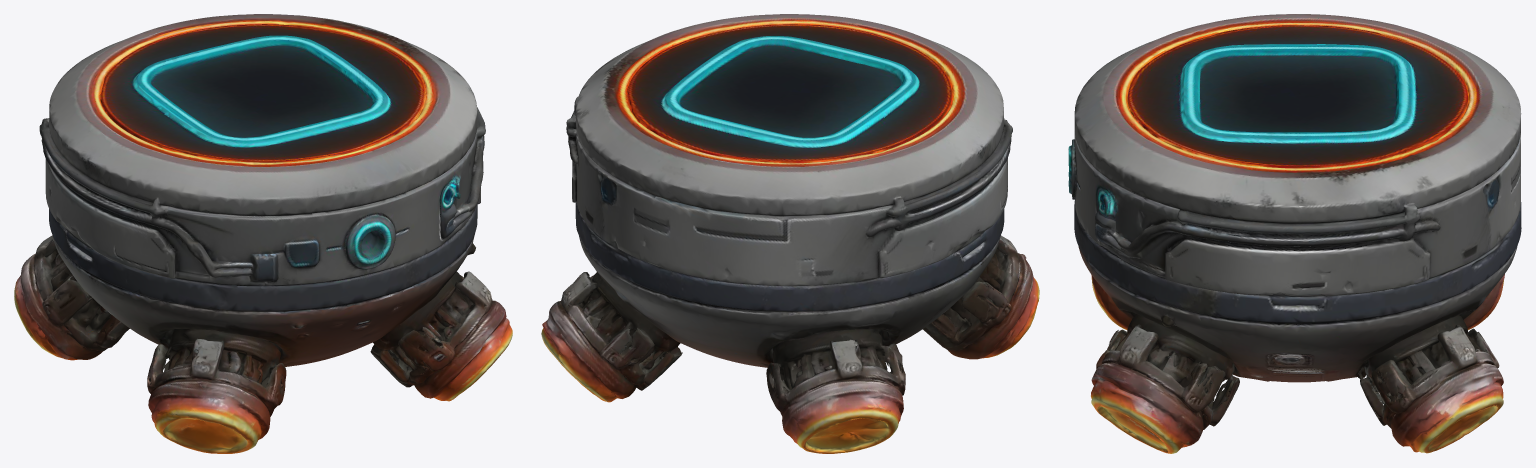
The model's file is floater.glb.
The picture shows the model from 3 angles, left to right: view 1: azimuth 30°, elevation 25°; view 2: azimuth 150°, elevation 25°; view 3: azimuth 270°, elevation 25°; orthographic projection. The views are drawn at different scales.
Visible parts, largest first — view 1: tripo_node_e200e31c-2575-4c6a-9d03-2d879ca9e147; view 2: tripo_node_e200e31c-2575-4c6a-9d03-2d879ca9e147; view 3: tripo_node_e200e31c-2575-4c6a-9d03-2d879ca9e147.
Part boxes in pixels (box(x1,y1,x2,y2)): tripo_node_e200e31c-2575-4c6a-9d03-2d879ca9e147: box(14, 14, 512, 453); tripo_node_e200e31c-2575-4c6a-9d03-2d879ca9e147: box(541, 14, 1039, 453); tripo_node_e200e31c-2575-4c6a-9d03-2d879ca9e147: box(1068, 14, 1521, 453).
Bounding box in the file's own units: 1 × 0.7193 × 0.9886.
1 material, 1 textured.
